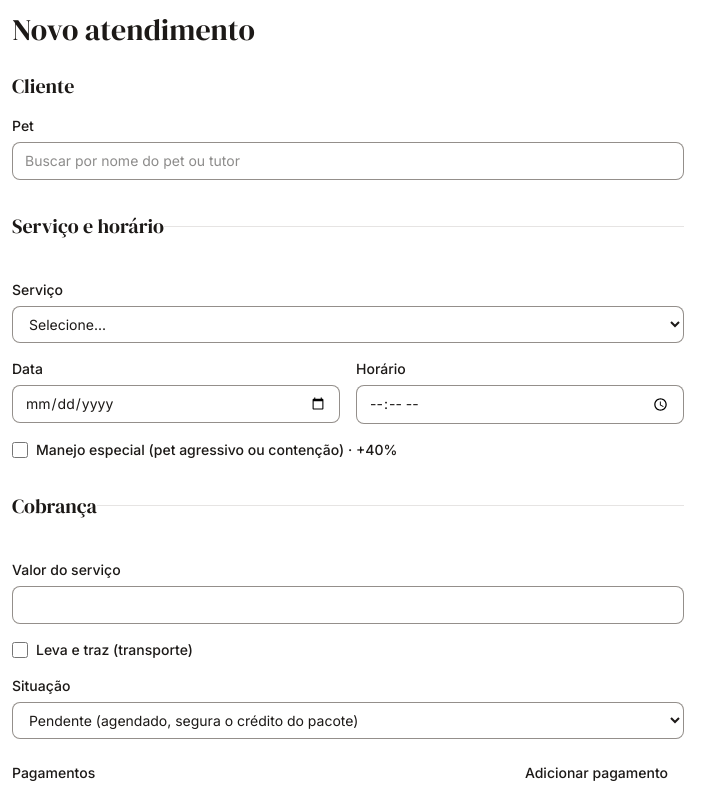
Test case: AtendimentoForm › pet com pacote vincula e esconde os pagamentos
Type "Luna" into the dropdown labelled "Pet" at (348, 161), box [12,142,684,180]
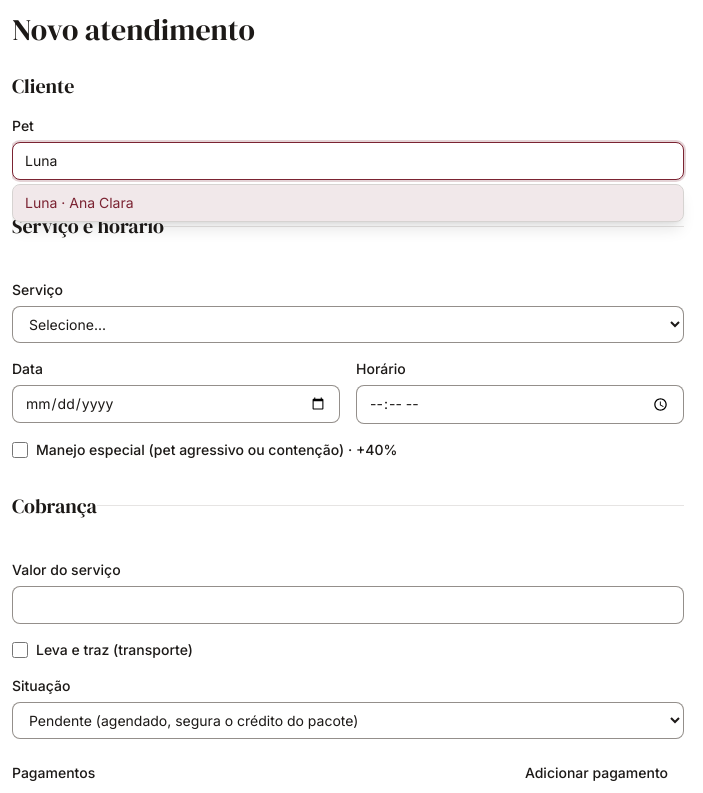
Result: the option "Luna · Ana Clara" is shown
Click the option "Luna · Ana Clara" at (79, 202), box [13,185,683,221]
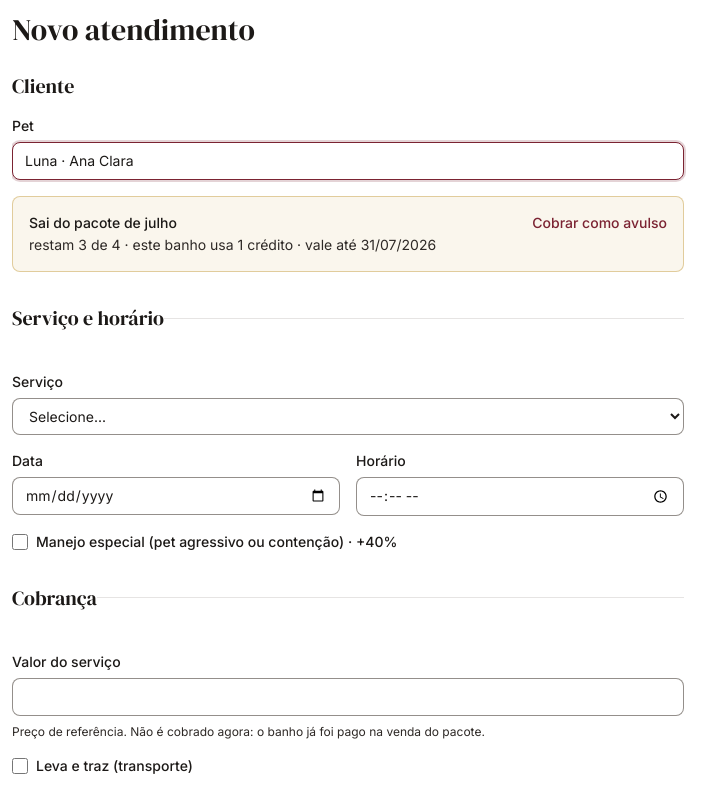
Result: the text "Sai do pacote de julho" is shown at [29,214,177,231]
Result: the button "Adicionar pagamento" is gone
Result: the text "Preço de referência. Não é cobrado agora" is shown at [12,724,485,739]
